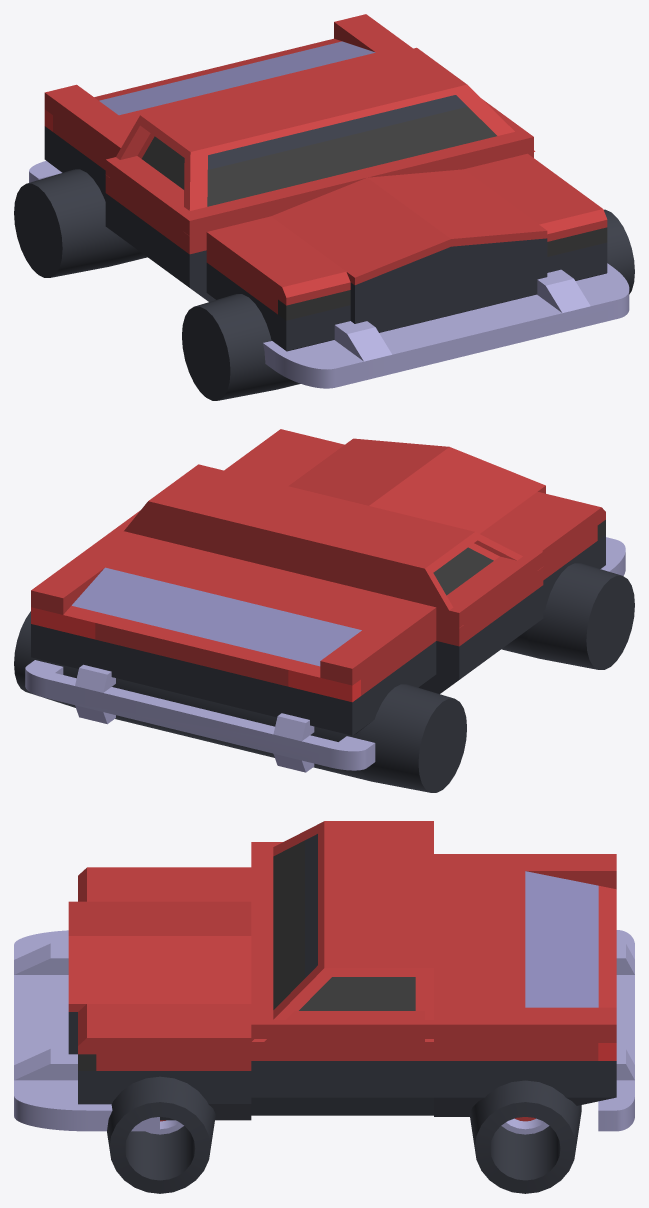
File: lowcar.fbx
3 renders of one model, top to bottom at view 1: azimuth 30°, elevation 25°; view 2: azimuth 150°, elevation 25°; view 3: azimuth 270°, elevation 25°, orthographic. The views are drawn at different scales.
Visible parts, largest first — view 1: mergedBlocks; view 2: mergedBlocks; view 3: mergedBlocks.
Part boxes in pixels (x1,y1,x2,y2): mergedBlocks: (14,14,634,400); mergedBlocks: (14,429,634,792); mergedBlocks: (14,821,634,1193).
Size of the model in its own units: 27.98 by 11.74 by 34.
